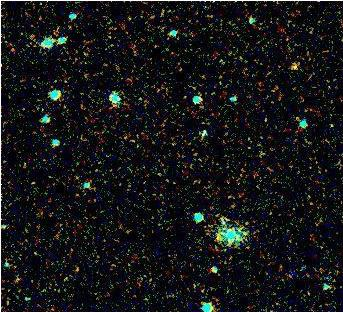star: (280, 53, 310, 83)
